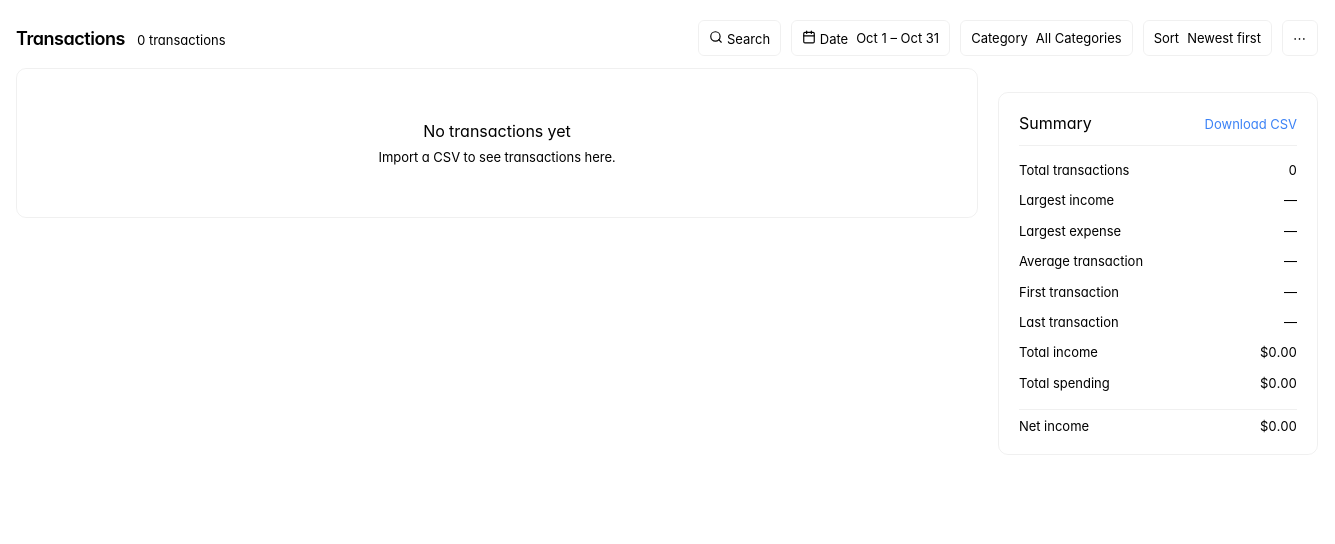
Scenario: Transactions import tools › keeps Import, Apply rules and Rules in one More actions menu
Click the button named "More actions" at (1300, 38), box x1=1282 y1=20 x2=1318 y2=56
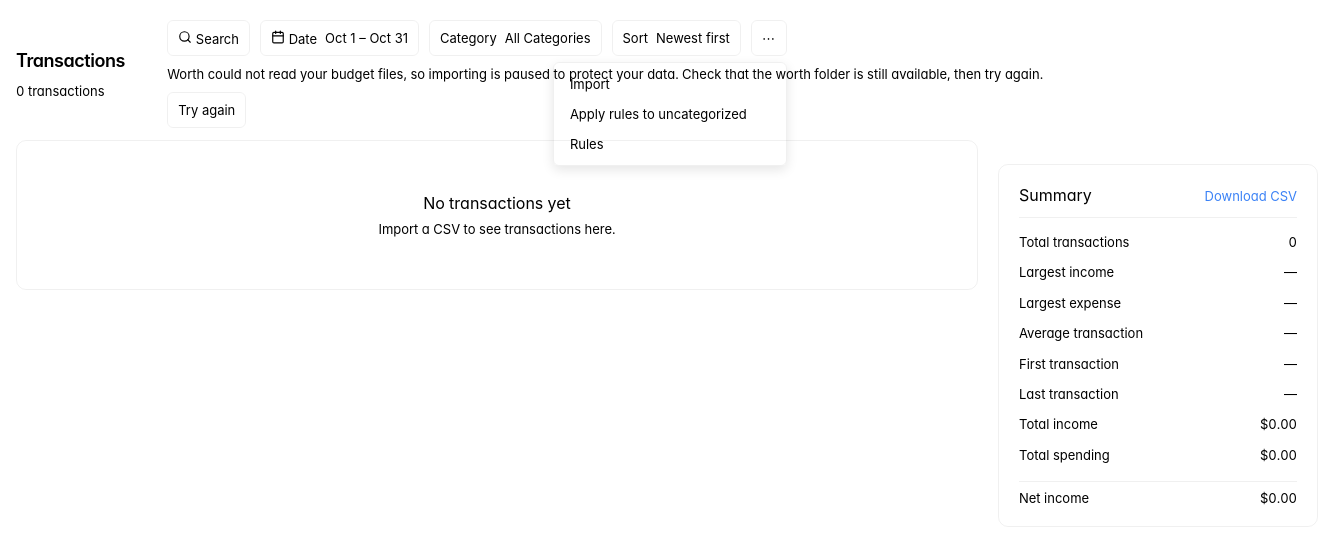
Expected: the menu item "Import" is shown, x1=560 y1=69 x2=780 y2=99
Expected: the menu item "Apply rules to uncategorized" is shown, x1=560 y1=99 x2=780 y2=129
Expected: the menu item "Rules" is shown, x1=560 y1=129 x2=780 y2=159
Press Escape
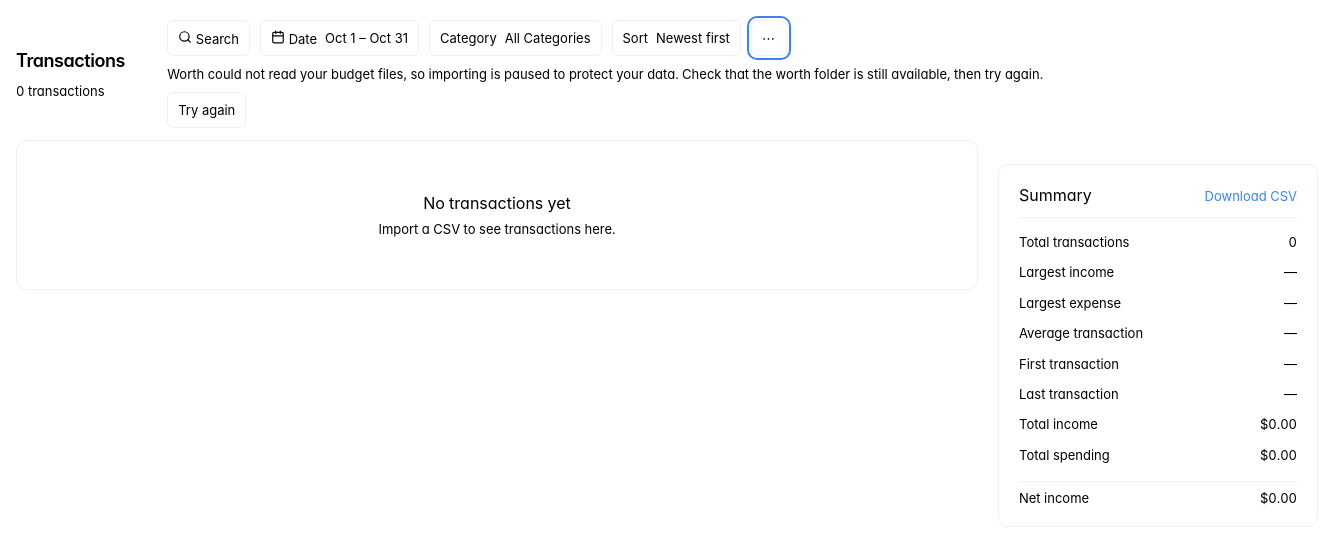
Expected: the menu is gone
